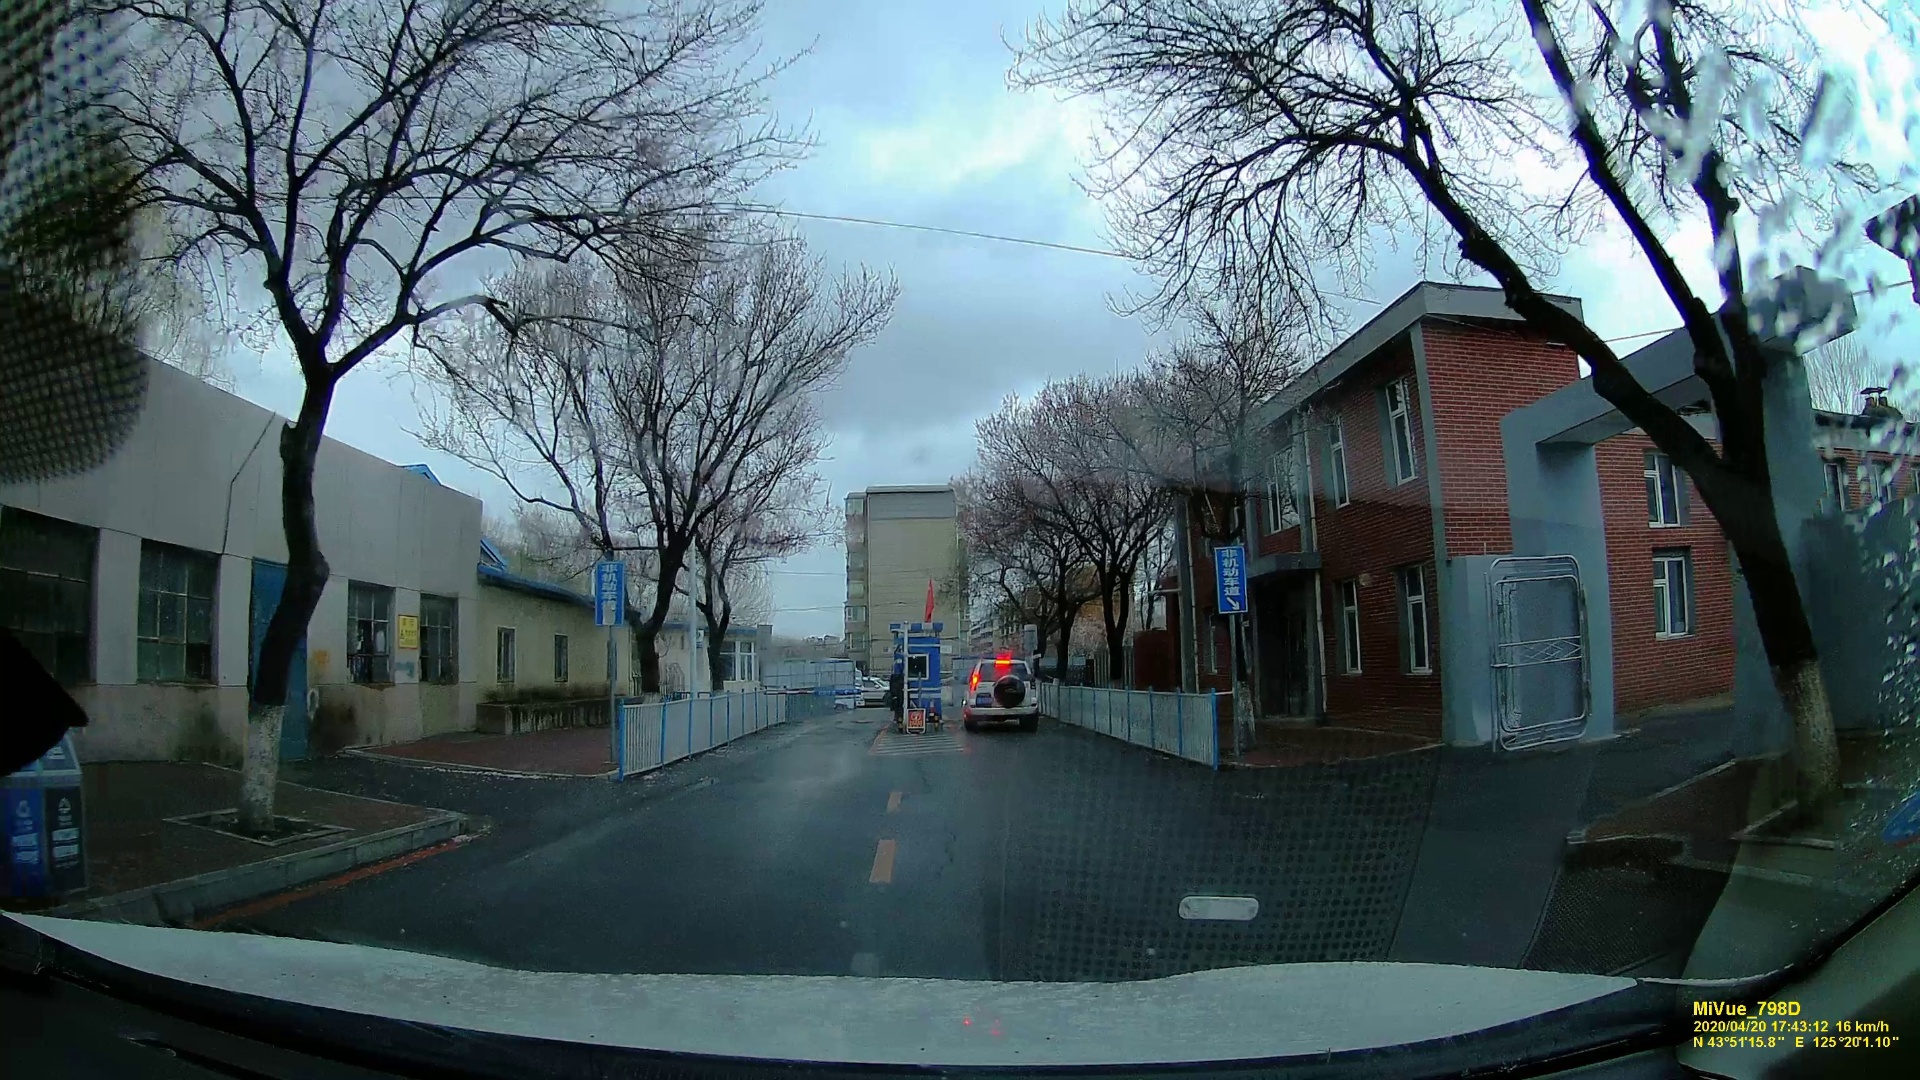traffic_sign: (1213, 543, 1251, 616), (592, 560, 624, 628), (903, 709, 927, 731)
vehicle: (961, 662, 1040, 733)
